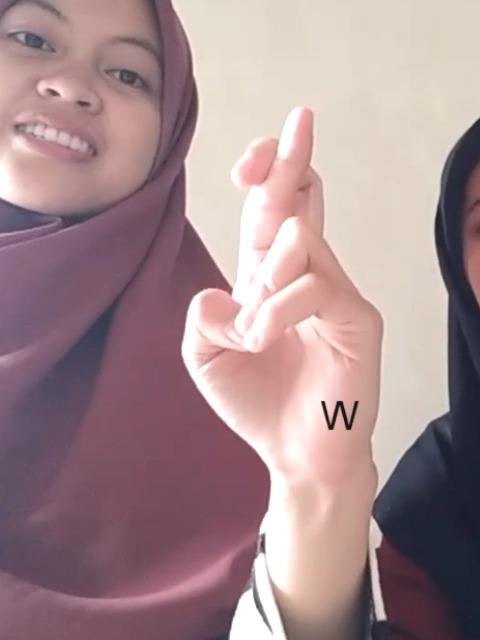R: (167, 97, 391, 460)
